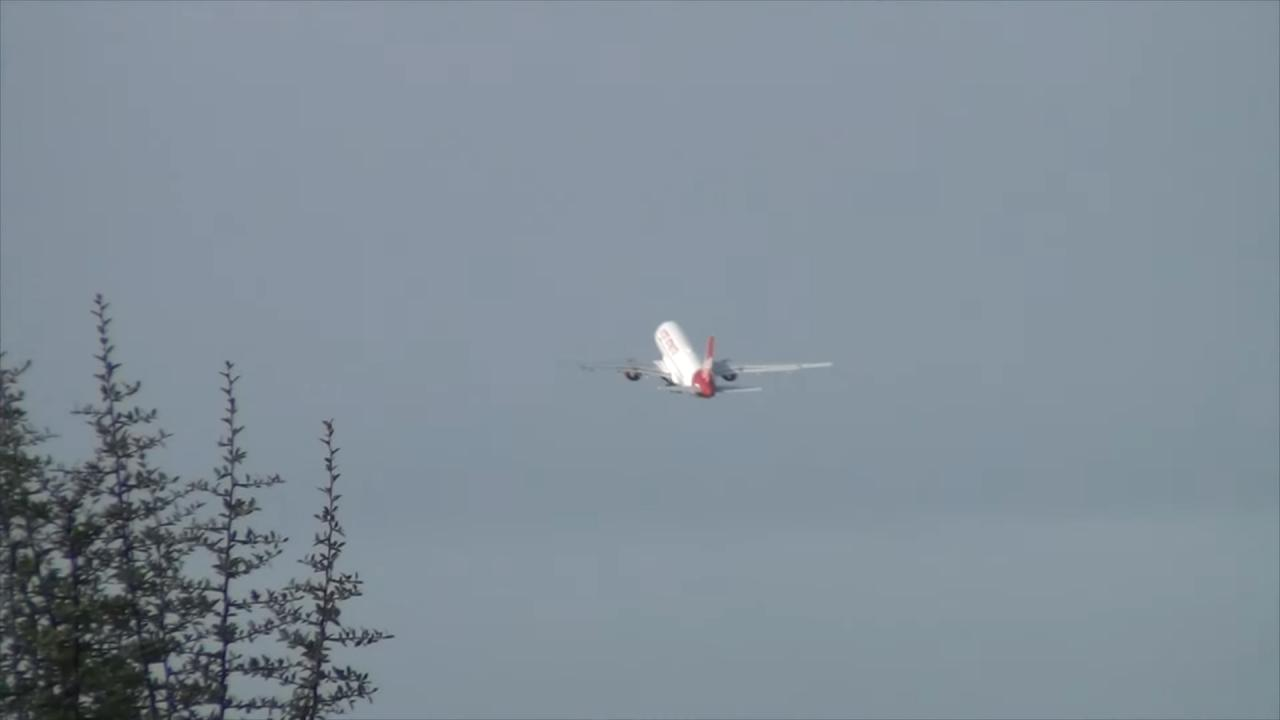Airplane: (570, 312, 849, 405)
